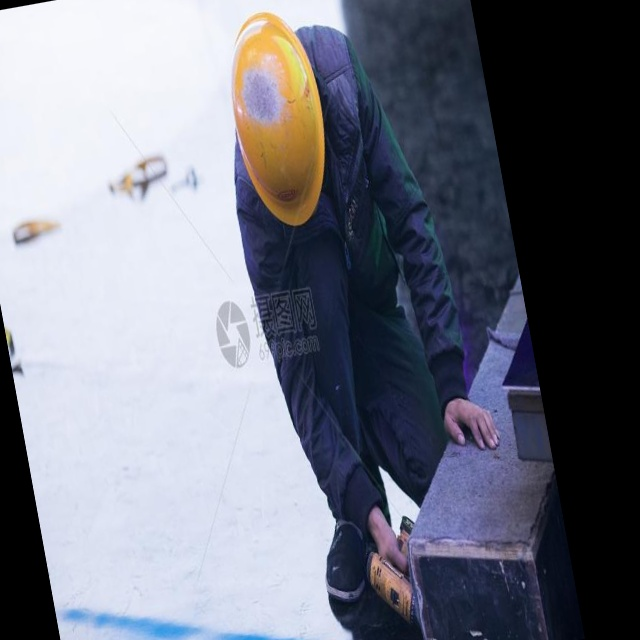Con_Casco: (212, 0, 342, 223)
